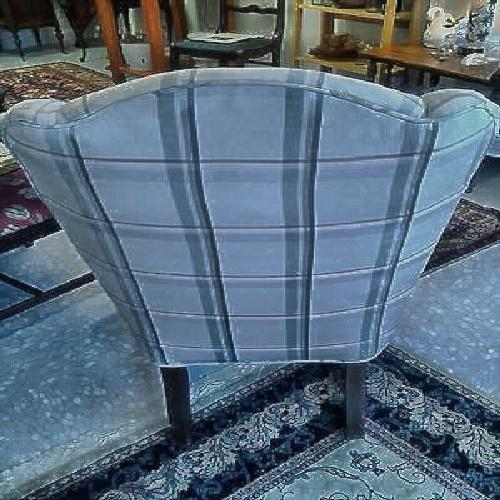chair: (18, 80, 492, 441)
